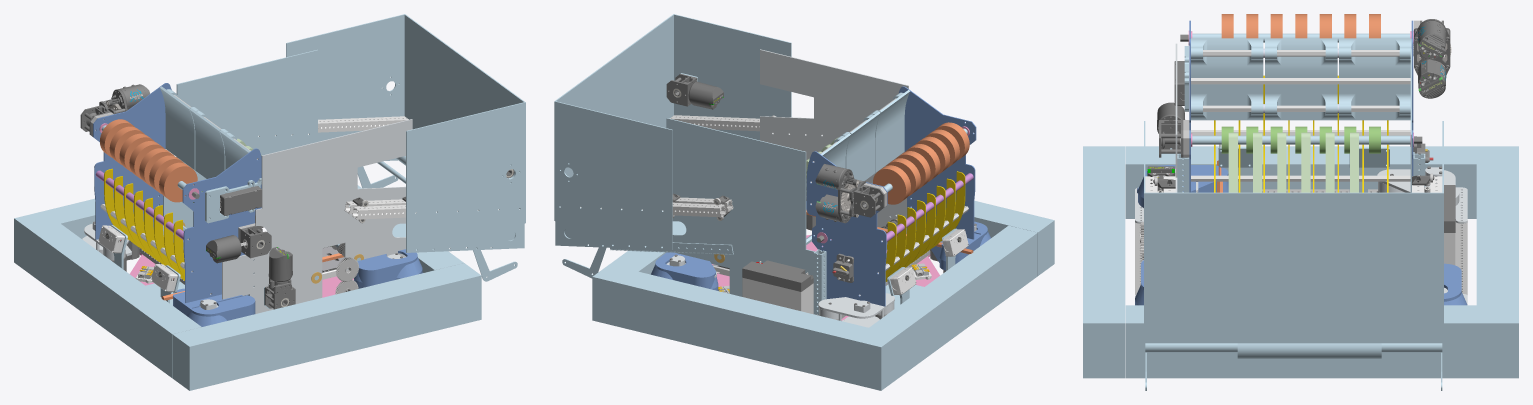
The picture shows the model from 3 angles, left to right: view 1: azimuth 30°, elevation 25°; view 2: azimuth 150°, elevation 25°; view 3: azimuth 270°, elevation 25°; orthographic projection. The views are drawn at different scales.
Visible parts, largest first — view 1: Part 1.021, Part 1.039, Part 1.050, Part 1.011, Part 1.049, Part 1.043, Part 1.046, Part 1.092, Part 1.064, Part 1.013, Part 1.062, Part 1 (+34 smaller); view 2: Part 1.013, Part 1.049, Part 1.043, Part 1.011, Part 1.039, Part 1.050, Part 1.046, Part 1.064, Part 1.092, Robot Battery, Part 1.021, Part 1.061 (+34 smaller); view 3: Part 1.046, Part 1.017, Part 1.021, Part 1.013, Part 1.011, Part 1.058, Part 1.061, Part 1.062, Part 1.048, Part 1.056, Simplified MK4i, Part 1.101 (+24 smaller).
Boxes of the visible parts, x1,y1,x2,y2 form: Part 1.021: [172, 263, 481, 390]; Part 1.039: [222, 119, 412, 313]; Part 1.050: [406, 102, 524, 252]; Part 1.011: [31, 223, 201, 378]; Part 1.049: [163, 49, 317, 249]; Part 1.043: [286, 14, 404, 160]; Part 1.046: [404, 14, 525, 223]; Part 1.092: [182, 148, 261, 303]; Part 1.064: [93, 83, 171, 239]; Part 1.013: [14, 198, 95, 274]; Part 1.062: [160, 86, 199, 169]; Part 1: [173, 288, 255, 326]; Part 1.013: [592, 264, 897, 390]; Part 1.049: [666, 118, 815, 296]; Part 1.043: [555, 101, 672, 250]; Part 1.011: [869, 225, 1037, 378]; Part 1.039: [760, 49, 908, 249]; Part 1.050: [674, 14, 791, 140]; Part 1.046: [554, 14, 674, 220]; Part 1.064: [806, 151, 887, 306]; Part 1.092: [899, 86, 976, 239]; Robot Battery: [742, 260, 813, 313]; Part 1.021: [974, 200, 1054, 275]; Part 1.061: [870, 90, 910, 172]; Part 1.046: [1144, 192, 1443, 343]; Part 1.017: [1125, 305, 1476, 378]; Part 1.021: [1083, 146, 1125, 378]; Part 1.013: [1476, 146, 1518, 378]; Part 1.011: [1125, 146, 1476, 218]; Part 1.058: [1265, 38, 1337, 120]; Part 1.061: [1191, 38, 1263, 120]; Part 1.062: [1339, 38, 1411, 120]; Part 1.048: [1145, 343, 1442, 359]; Part 1.056: [1191, 78, 1410, 84]; Simplified MK4i: [1377, 166, 1467, 223]; Part 1.101: [1191, 175, 1410, 181].
Size of the model in its own units: 1.09 by 0.5546 by 0.9144.
